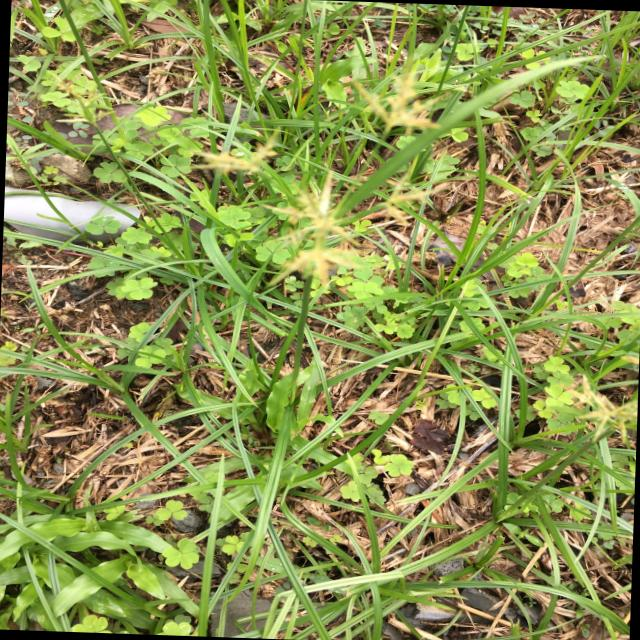cyperus: (188, 51, 446, 292)
